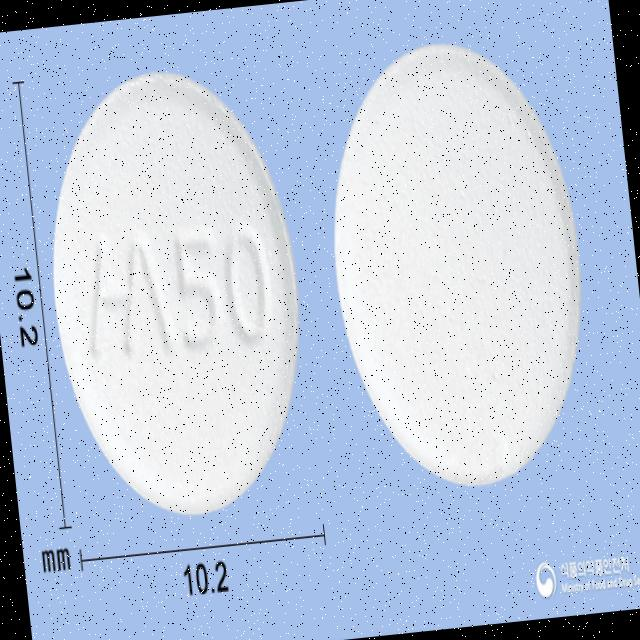Herfam: (31, 54, 321, 528)
